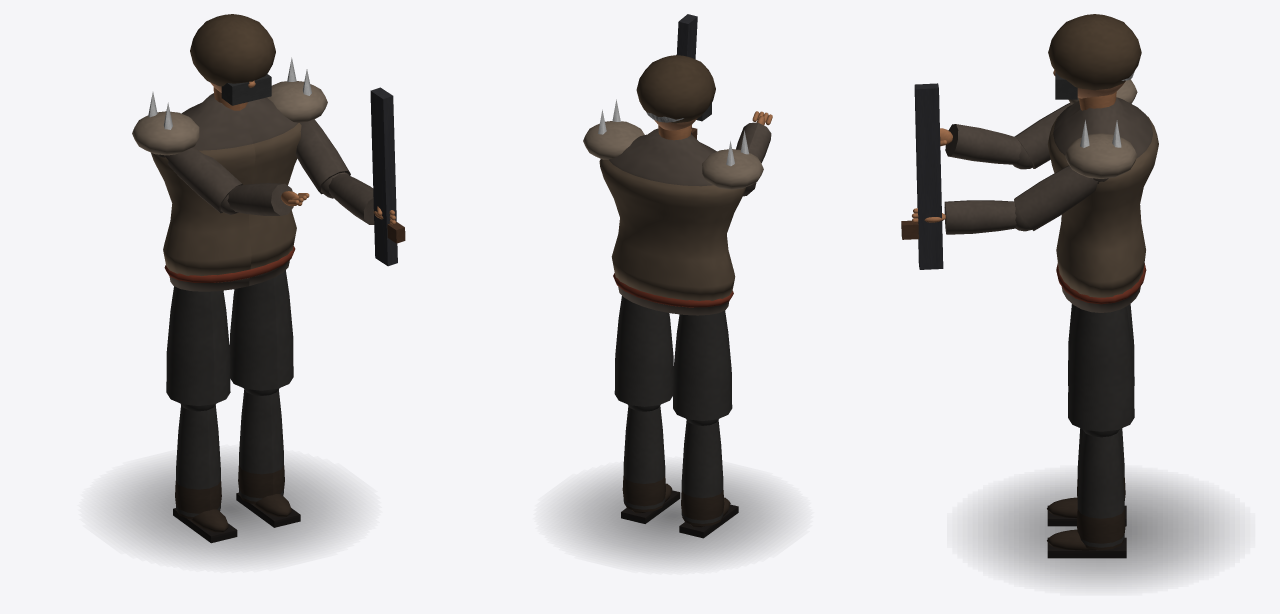
Rendered from enemy_marauder.glb.
3 renders of one model, left to right at view 1: azimuth 30°, elevation 25°; view 2: azimuth 150°, elevation 25°; view 3: azimuth 270°, elevation 25°, orthographic. The views are drawn at different scales.
Visible parts, largest first — view 1: chest, object 11, legL, legR, head, shinR, shinL, foreR, armL, foreL, armR; view 2: chest, object 11, legL, legR, shinR, shinL, head, foreL, foreR; view 3: chest, object 11, foreR, legR, shinR, head, armR, foreL, armL, shinL, legL.
Boxes of the visible parts, box(x1,y1,x2,y2) form: chest: box(132, 57, 327, 291); object 11: box(109, 457, 350, 559); legL: box(166, 286, 230, 405); legR: box(229, 270, 293, 390); head: box(190, 14, 275, 105); shinR: box(236, 388, 300, 527); shinL: box(173, 403, 237, 543); foreR: box(321, 87, 405, 266); armL: box(157, 147, 242, 213); foreL: box(220, 183, 309, 215); armR: box(295, 119, 350, 194); chest: box(583, 99, 763, 315); object 11: box(562, 468, 785, 562); legL: box(673, 310, 732, 420); legR: box(614, 296, 673, 406); shinR: box(621, 404, 680, 523); shinL: box(679, 419, 738, 538); head: box(636, 55, 715, 130); foreL: box(736, 111, 772, 163); foreR: box(676, 14, 697, 138); chest: box(1047, 79, 1158, 312); object 11: box(978, 478, 1224, 582); foreR: box(901, 83, 1031, 269); legR: box(1068, 306, 1134, 431); shinR: box(1047, 429, 1126, 558); head: box(1048, 14, 1141, 99); armR: box(1014, 165, 1108, 230); foreL: box(940, 124, 1033, 169); armL: box(1014, 103, 1071, 168); shinL: box(1047, 428, 1126, 526); legL: box(1068, 304, 1134, 385).
Bounding box in the file's own units: 1.04 × 1.81 × 1.15.
6 materials, 5 textured.
